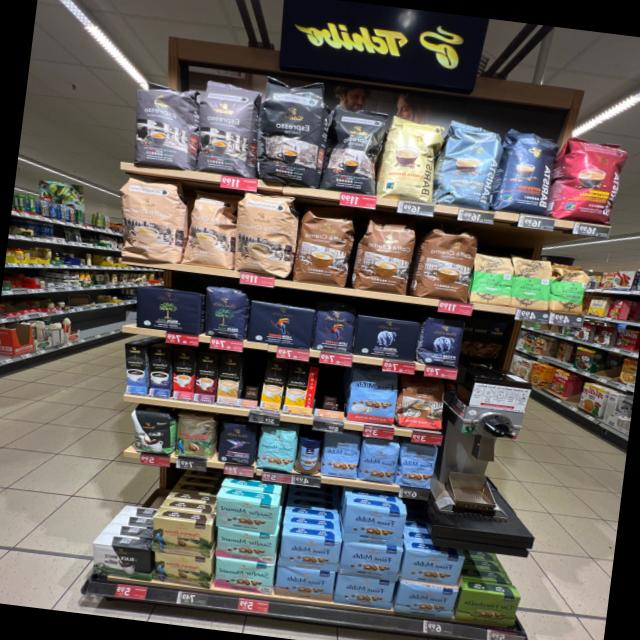AB Bohne: (416, 314, 467, 368)
AB Gemahlen: (352, 313, 421, 362)
Athiopien Bohne: (548, 262, 592, 316)
Athiopien Gemahlen: (468, 250, 516, 307), (510, 254, 552, 310)
BM Gemahlen: (130, 283, 203, 335), (200, 284, 250, 340)
BW Bohne: (125, 406, 174, 456)
BW Gemahlen: (88, 542, 152, 580)
Barista CB: (376, 114, 446, 202)
Barista CC: (434, 122, 502, 210)
Barista Espresso: (496, 127, 560, 215)
Barista Kolumbien: (553, 134, 630, 226)
C Fino Bohne: (216, 420, 258, 466)
CC Mild: (110, 173, 190, 265), (231, 190, 301, 278), (182, 188, 238, 270)
CC Vollmundig: (396, 376, 446, 432)
CC Vollmundig 36 Pads: (350, 215, 418, 295), (412, 224, 480, 304), (292, 206, 358, 286)
Colombia BB Bohne: (172, 414, 216, 461)
Colombia BB Gemahlen: (148, 516, 212, 558), (151, 550, 212, 588)
Espresso Aromatisch: (190, 78, 262, 178), (127, 80, 198, 172)
Espresso Kraftig: (249, 72, 330, 188), (322, 105, 388, 194)
FM 36 Pads: (345, 367, 399, 426)
FM Bohne: (356, 436, 401, 484), (394, 442, 439, 489), (321, 430, 362, 479)
FM Gemahlen: (341, 505, 408, 548), (400, 546, 466, 588), (338, 540, 404, 582), (392, 580, 459, 620), (277, 532, 341, 572), (272, 564, 336, 602), (333, 574, 395, 610)
FM Instant: (293, 436, 323, 476)
Herzhatfe Mundig: (454, 588, 522, 630)
LG Bohne: (311, 303, 357, 354)
LG Gemahlen: (244, 298, 316, 349)
SM Bohne: (254, 422, 298, 472)
SM Gemahlen: (212, 496, 280, 534), (212, 527, 278, 564), (212, 557, 274, 594)
Simo CCMild: (282, 362, 318, 416)
Simo CCMild bigpack: (216, 354, 241, 405), (259, 362, 285, 410)
Simo Es Brazil: (171, 348, 196, 400)
Simo Es Caramel: (194, 351, 218, 402)
Simo Es Kraft: (147, 345, 170, 397)
Simo Es Vanilla: (124, 342, 146, 394)
